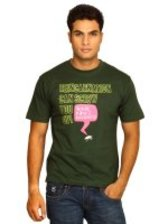clothoes: (22, 56, 155, 192)
